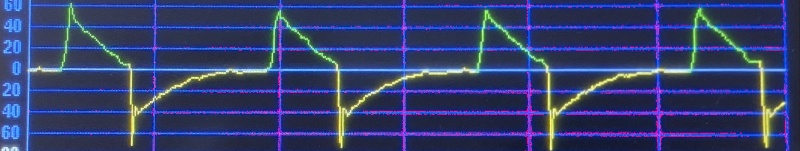normal_flow: (22, 1, 791, 151)
